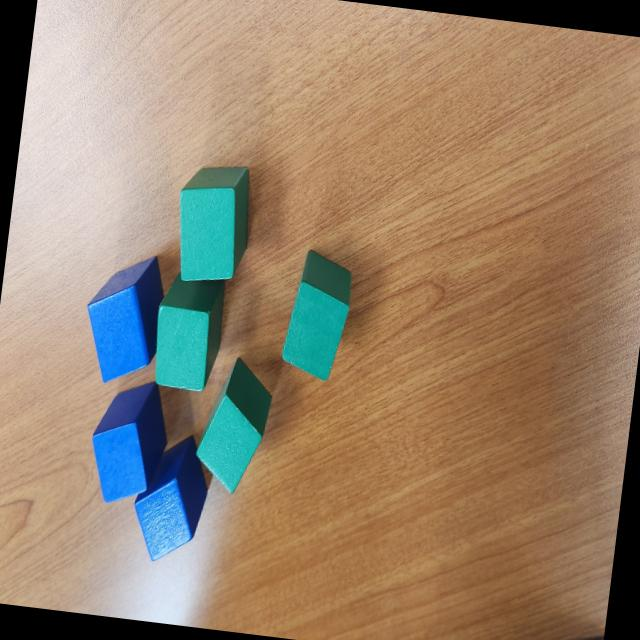blue: (78, 247, 170, 389), (84, 373, 174, 510), (126, 428, 214, 566)
green: (190, 352, 276, 496), (169, 158, 257, 287), (146, 269, 228, 396), (280, 247, 356, 384)
